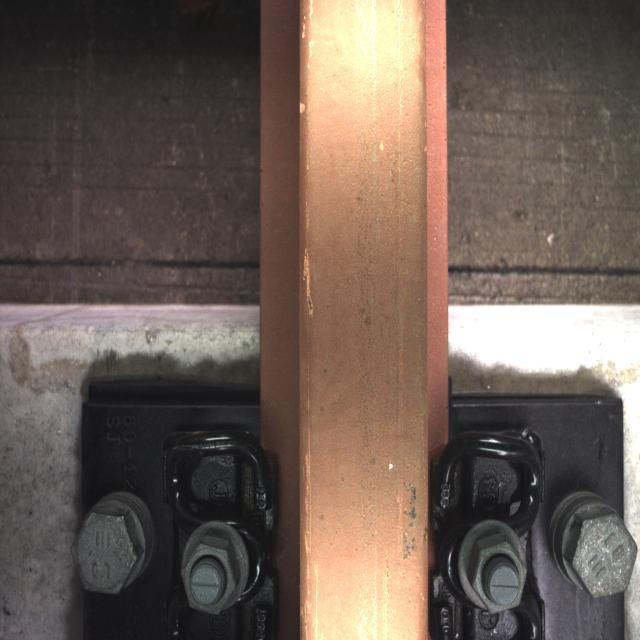break: (315, 66, 407, 604)
